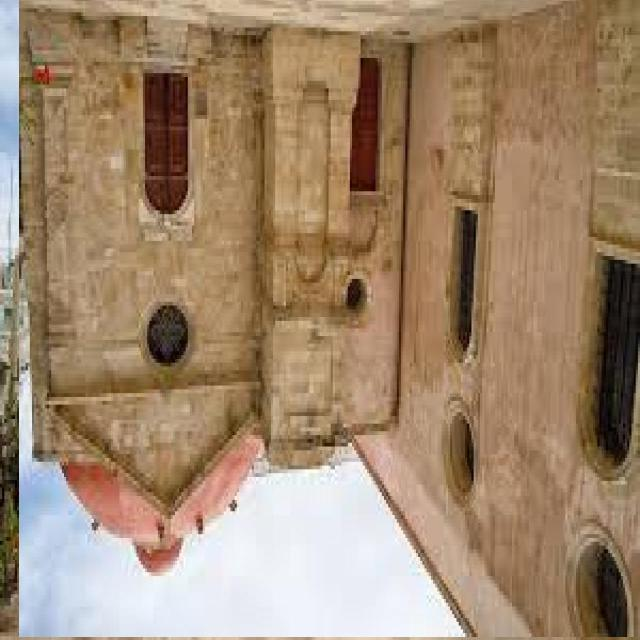Agia Aikaterini: (20, 1, 640, 638)
